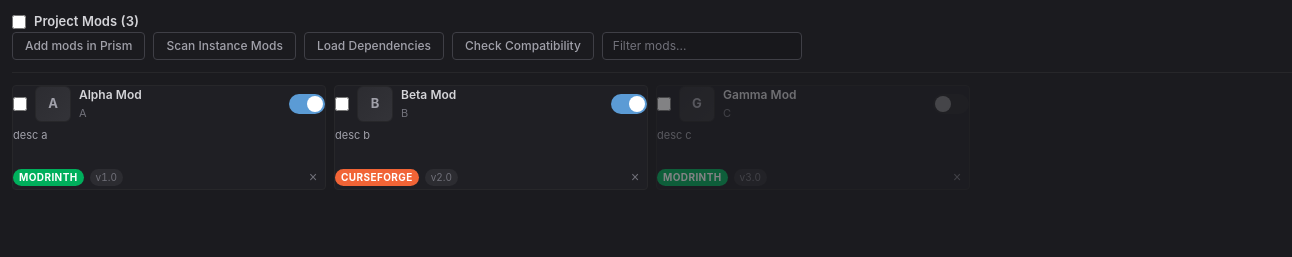
ModsTab › reveals the bulk bar with the right count when a row is selected
Click the checkbox named "Select Alpha Mod": click(20, 104) [13, 96, 27, 110]
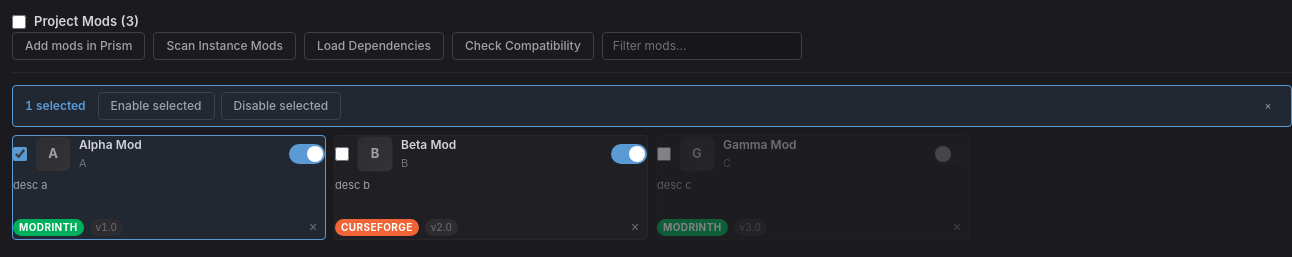
Now the text "1 selected" is shown, box [25, 96, 86, 114]
Now the element named "bulk mod actions" is shown, box [12, 84, 1291, 126]
